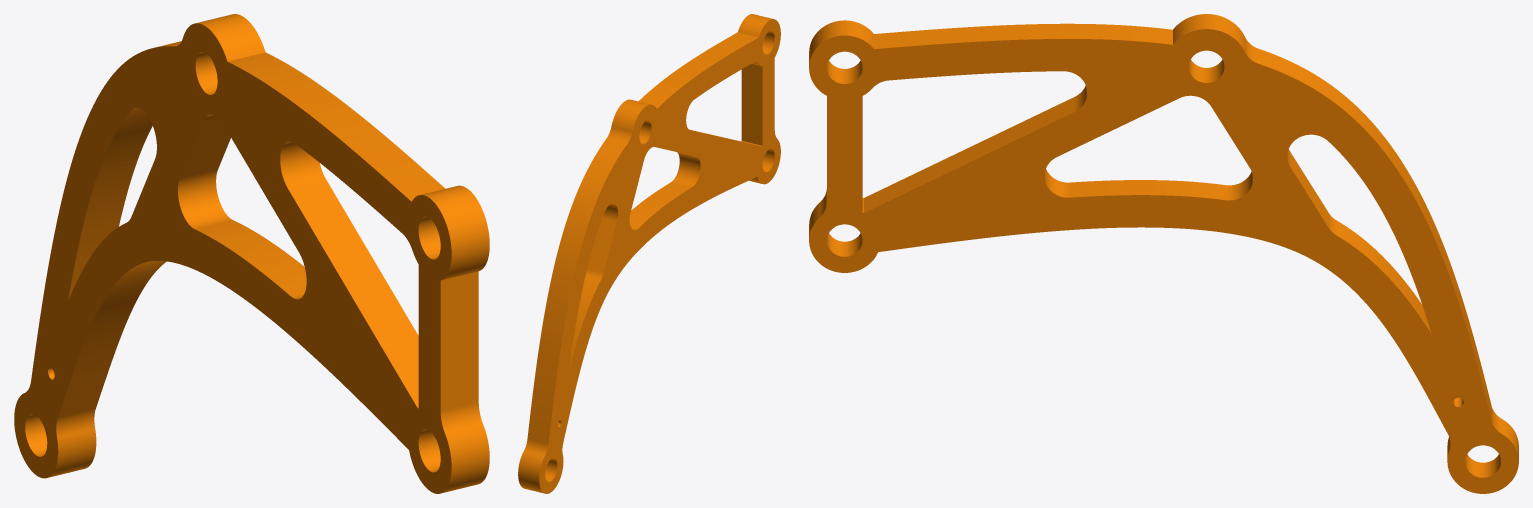
The model's file is RearLeg.dae.
The picture shows the model from 3 angles, left to right: view 1: azimuth 30°, elevation 25°; view 2: azimuth 150°, elevation 25°; view 3: azimuth 270°, elevation 25°; orthographic projection. The views are drawn at different scales.
Visible parts, largest first — view 1: 5c5695e861567d164a537eaa; view 2: 5c5695e861567d164a537eaa; view 3: 5c5695e861567d164a537eaa.
Part boxes in pixels (left/top/right/bottom): 5c5695e861567d164a537eaa: left=14, top=14, right=489, bottom=493; 5c5695e861567d164a537eaa: left=518, top=14, right=780, bottom=493; 5c5695e861567d164a537eaa: left=809, top=14, right=1518, bottom=493.
Size of the model in its own units: 0.00476 by 0.0946 by 0.0684.
